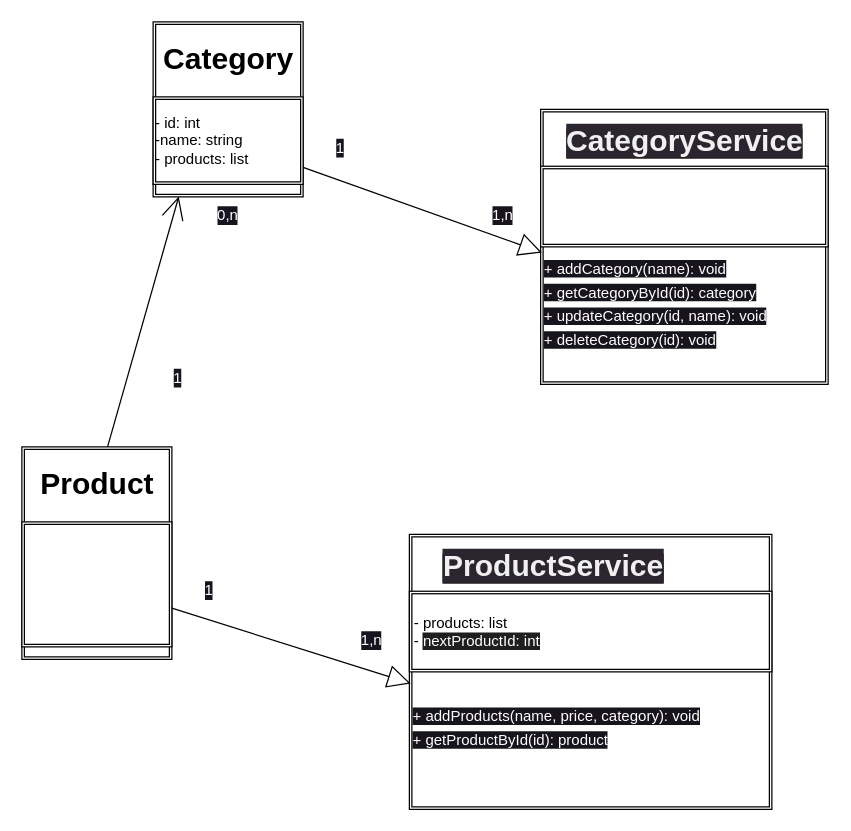
Image size: 851x831. Some labels were removed from this diagram. The shapes that lost their labels are listed below. From the top down, each one's centre as x and y in pixels, then its label:
[683,206]: - categories: list - nextCategoryId: int
[96,584]: - id: int - name: string - category: category - price: int
